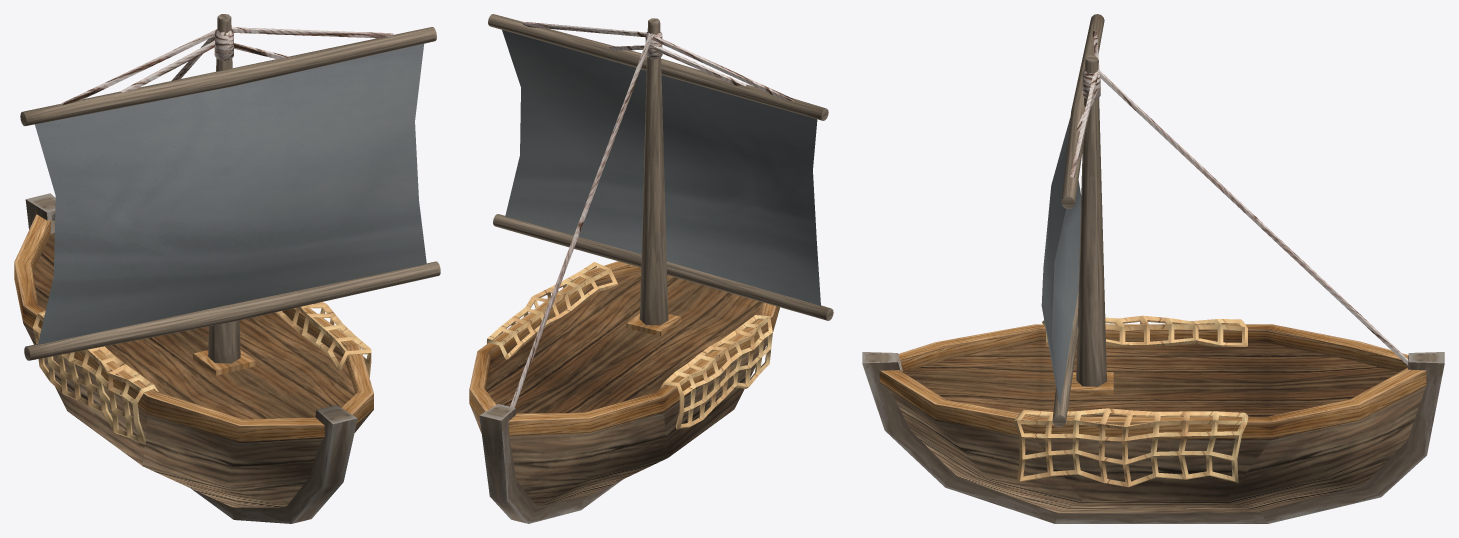
Rendered from FishingShip.fbx.
3 views of the same model, side by side, from view 1: azimuth 30°, elevation 25°; view 2: azimuth 150°, elevation 25°; view 3: azimuth 270°, elevation 25° (orthographic). The views are drawn at different scales.
Visible parts, largest first — view 1: FishingShip; view 2: FishingShip; view 3: FishingShip.
Part boxes in pixels (x1,y1,x2,y2): FishingShip: (14, 14, 440, 523); FishingShip: (469, 14, 833, 523); FishingShip: (862, 14, 1444, 523).
Bounding box in the file's own units: 519 × 608 × 696.
